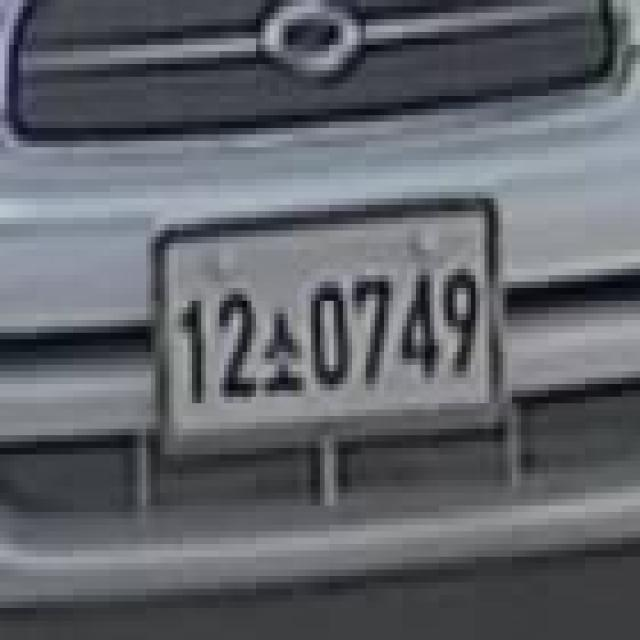0: (306, 276, 352, 390)
1: (164, 282, 215, 428)
2: (215, 275, 256, 410)
4: (398, 269, 448, 397)
7: (348, 269, 402, 397)
9: (439, 262, 489, 390)
license_plate: (151, 192, 507, 461)
so: (260, 307, 302, 410)
